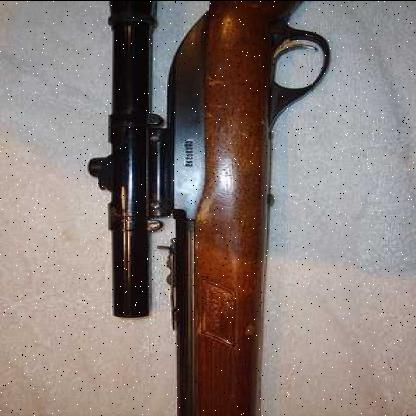rifle: (85, 1, 373, 416)
